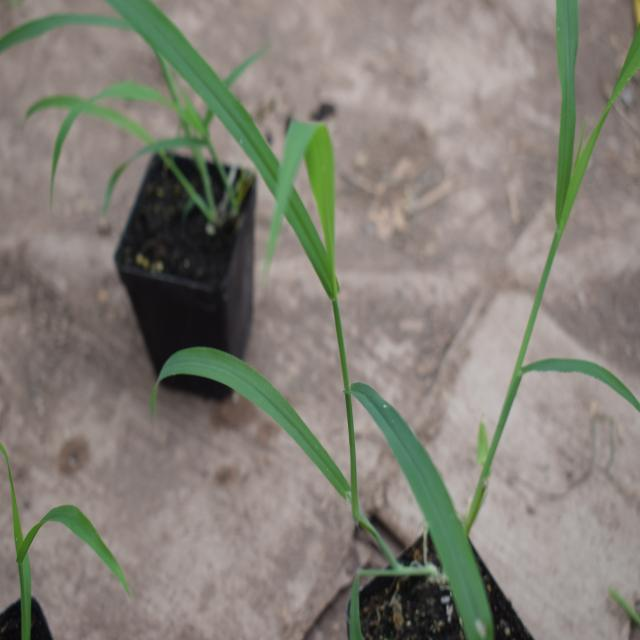crabgrass: (124, 0, 484, 600)
